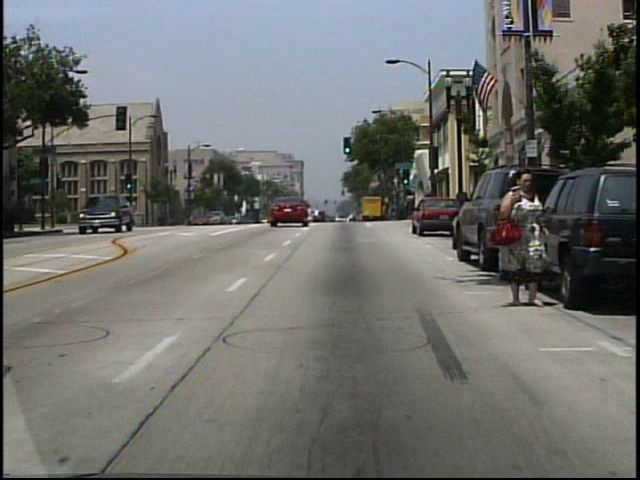person: (492, 166, 556, 309)
